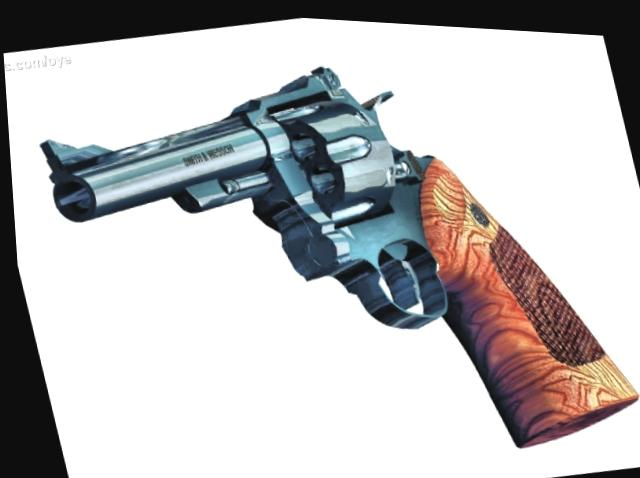pistol: (17, 8, 640, 478)
